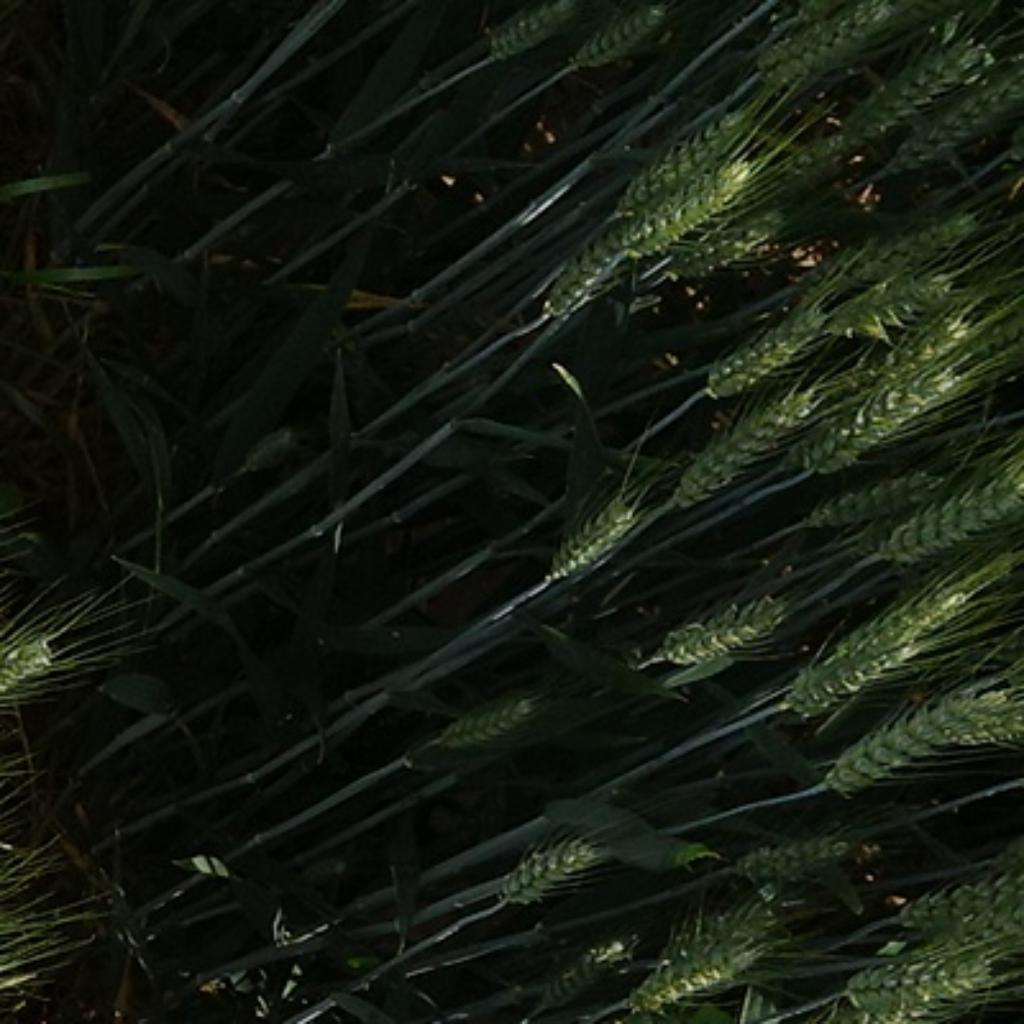0-0: (778, 576, 972, 706), (814, 683, 1024, 793), (657, 381, 829, 512), (627, 903, 785, 1021), (832, 38, 983, 161), (596, 151, 752, 258), (796, 366, 962, 463), (616, 110, 747, 222), (816, 207, 983, 294), (880, 76, 1018, 179), (842, 935, 1010, 1017), (642, 581, 796, 670), (852, 317, 988, 414), (532, 486, 652, 588), (706, 296, 837, 389), (885, 478, 1013, 570), (536, 221, 636, 333), (816, 279, 965, 350), (747, 10, 883, 87), (494, 821, 611, 908), (801, 471, 952, 535), (734, 821, 867, 893), (675, 207, 791, 281), (1, 598, 74, 710), (519, 936, 631, 1008), (903, 865, 1024, 931), (430, 688, 545, 757), (483, 2, 583, 66), (581, 12, 670, 66)
